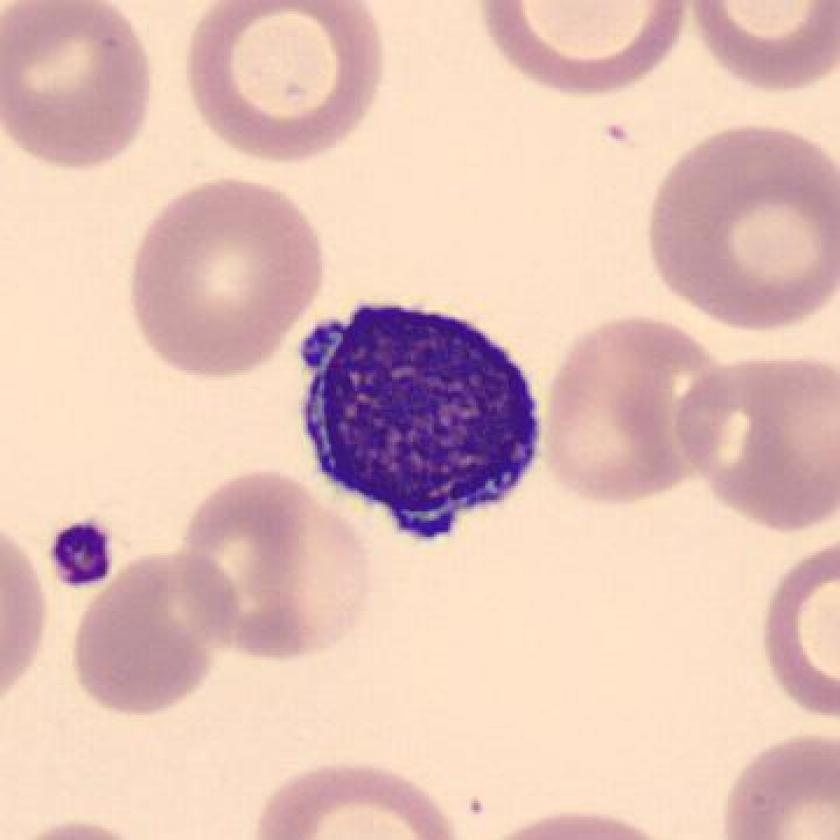lymphocyte: (274, 291, 561, 550)
platelets: (45, 519, 123, 594)
